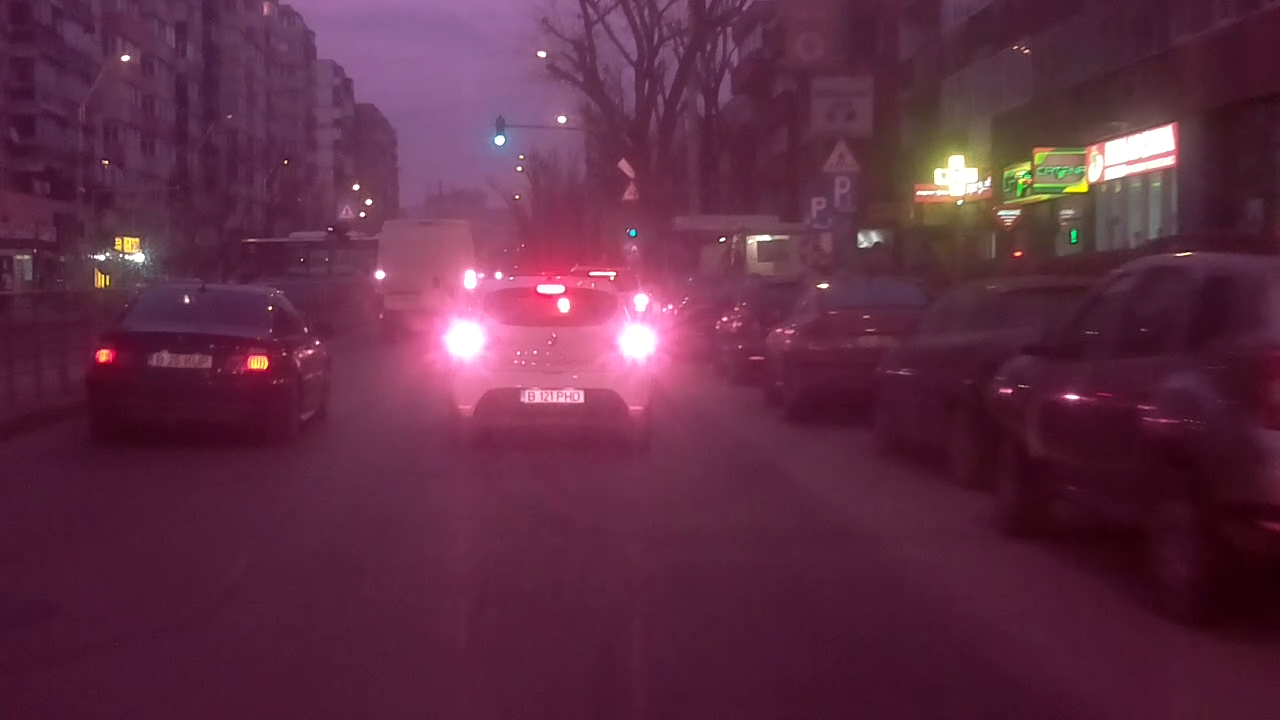license-plate: (144, 351, 212, 369), (519, 389, 584, 405)
